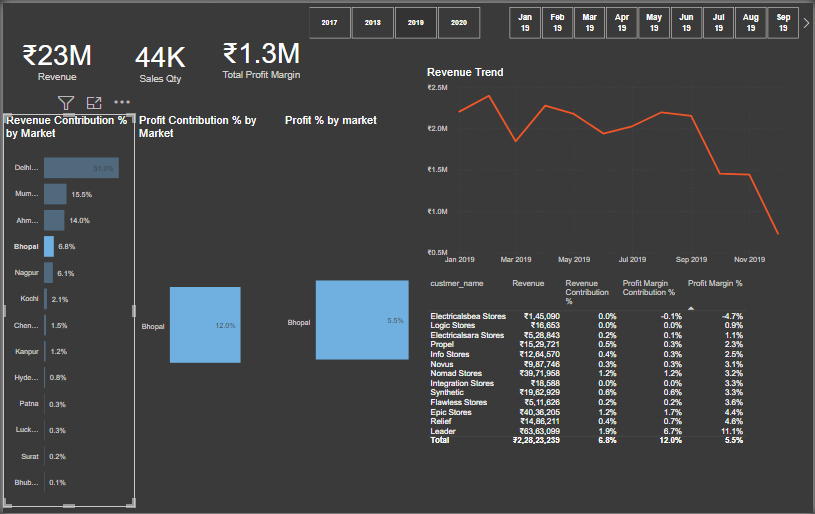

Layout of this report page (visuals, bound fields, positions):
{"tool":"powerbi","page":{"name":"Profit Analysis","canvas":[1350,850],"ordinal":1},"visuals":[{"type":"card","fields":{"Values":["BaseMeasures (2).Revenue"]},"box":[0,0,179.6,184.8],"z":0},{"type":"card","fields":{"Values":["BaseMeasures (2).Sales Qty"]},"box":[179.6,0,164.1,193],"z":1000},{"type":"barChart","title":"Profit % by market","fields":{"Y":["BaseMeasures (2).Profit Margin %"],"Category":["sales markets.markets_name"]},"box":[464.5,184.8,230.2,664.8],"z":2000},{"type":"barChart","title":"Profit Contribution % by Market","fields":{"Y":["BaseMeasures (2).Profit Margin Contribution %"],"Category":["sales markets.markets_name"]},"box":[221.9,185.8,208.5,659.6],"z":3000},{"type":"slicer","fields":{"Values":["sales date.year"]},"box":[483.2,0,335.5,66.5],"z":4000},{"type":"slicer","fields":{"Values":["sales date.cy_date"]},"box":[818.6,0,531.7,66.5],"z":5000},{"type":"tableEx","title":"Top 5 Customers","fields":{"Values":["sales customers.custmer_name","BaseMeasures (2).Revenue","BaseMeasures (2).Revenue Contribution %","BaseMeasures (2).Profit Margin Contribution %","BaseMeasures (2).Profit Margin %"]},"box":[701.9,454.2,648.3,395.4],"z":6000},{"type":"lineChart","title":"Revenue Trend","fields":{"Y":["BaseMeasures (2).Revenue"],"Category":["sales date.cy_date"]},"box":[701.9,104.3,621.4,338.6],"z":7000},{"type":"card","fields":{"Values":["BaseMeasures (2).Total Profit Margin"]},"box":[349.9,0,161,176.5],"z":8000},{"type":"barChart","title":"Revenue Contribution % by Market","fields":{"Y":["BaseMeasures (2).Revenue Contribution %"],"Category":["sales markets.markets_name"]},"box":[0,185.8,219.9,654.5],"z":9000}]}

Visuals, with their boxes in screenshot pixels (x1, y1, x2, y2), scaled from the page's 1350x850 canvas onto the 815x514 screenshot:
card - BaseMeasures (2).Revenue: (0,0,108,112)
card - BaseMeasures (2).Sales Qty: (108,0,207,117)
"Profit % by market" barChart: (280,112,419,513)
"Profit Contribution % by Market" barChart: (134,112,260,511)
slicer - sales date.year: (292,0,494,40)
slicer - sales date.cy_date: (494,0,814,40)
"Top 5 Customers" tableEx: (424,275,814,513)
"Revenue Trend" lineChart: (424,63,799,268)
card - BaseMeasures (2).Total Profit Margin: (211,0,308,107)
"Revenue Contribution % by Market" barChart: (0,112,133,508)
